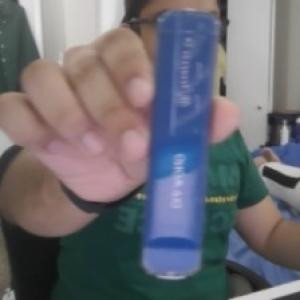Diamond-E-Ciggirate: (139, 10, 216, 284)
